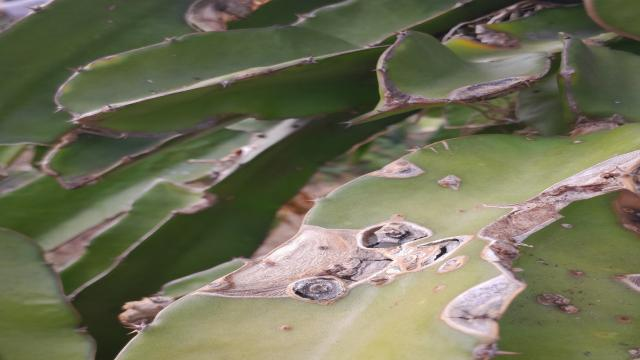stemcanker: (345, 155, 482, 196), (533, 290, 583, 316)
